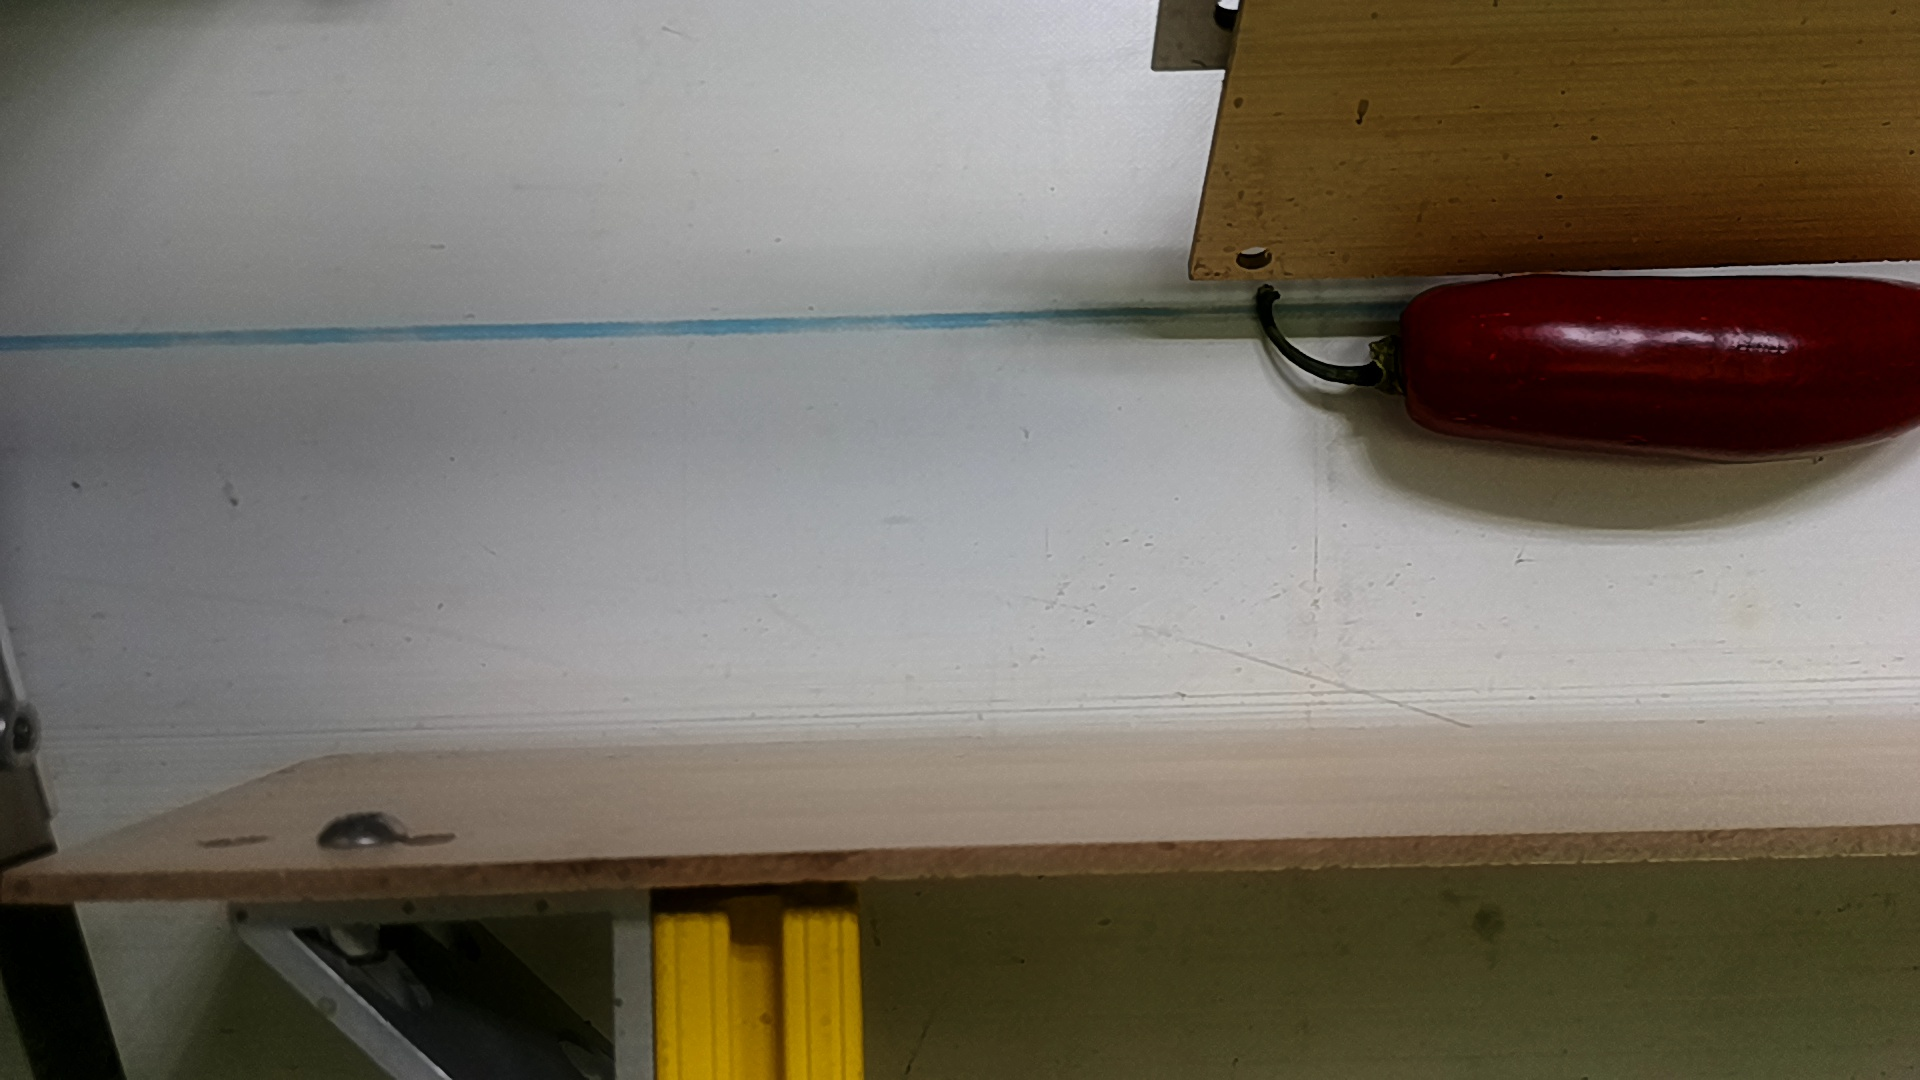Cut Point: (1357, 287, 1461, 454)
